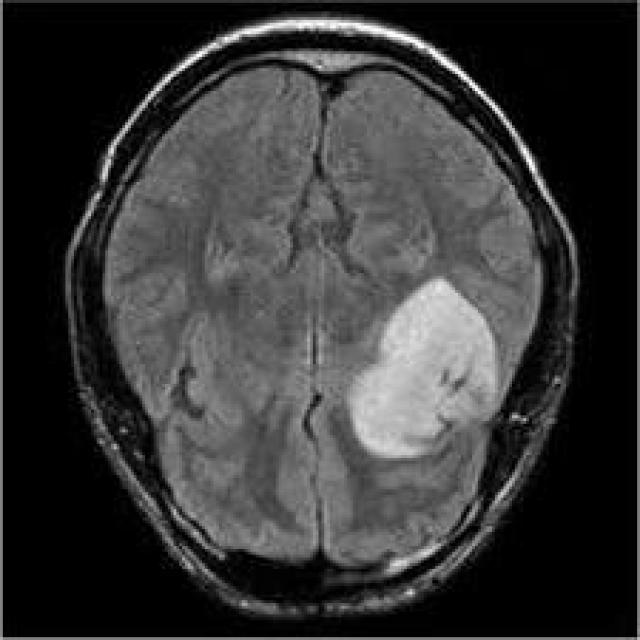Tumor-Cell: (348, 283, 507, 456)
